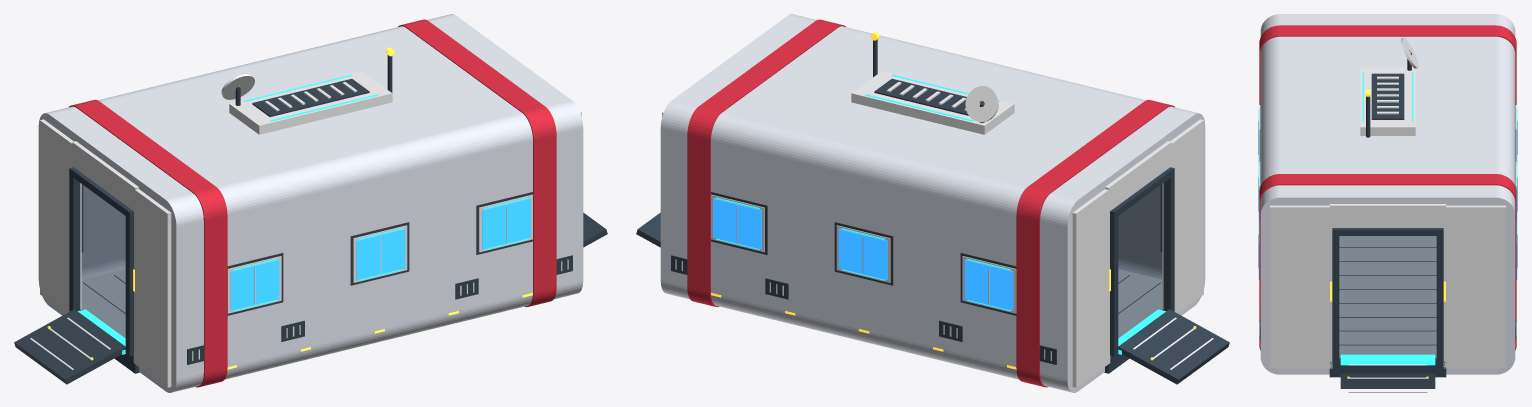
Rendered from habitat_corregido_original.glb.
The picture shows the model from 3 angles, left to right: view 1: azimuth 30°, elevation 25°; view 2: azimuth 150°, elevation 25°; view 3: azimuth 270°, elevation 25°; orthographic projection. The views are drawn at different scales.
Parts seen in each view (by area): view 1: Outer pressure hull, Red circumferential band -8.9, Red circumferential band 8.9, End -1 right bulkhead, End -1 left bulkhead, Entry ramp -1, Roof equipment spine, Interior pressure lining, Continuous walkable interior deck, Window 1 2 smart glass, Window 1 1 smart glass, Window 1 3 smart glass (+10 smaller); view 2: Outer pressure hull, Red circumferential band -8.9, Red circumferential band 8.9, End -1 left bulkhead, End -1 right bulkhead, Entry ramp -1, Interior pressure lining, Roof equipment spine, Continuous walkable interior deck, Window -1 2 smart glass, Window -1 1 smart glass, Window -1 3 smart glass (+10 smaller); view 3: Outer pressure hull, Continuous walkable interior deck, End 1 right bulkhead, End 1 left bulkhead, Red circumferential band 8.9, Red circumferential band -8.9, End 1 upper bulkhead, Roof equipment spine, Entry ramp 1, Roof spine dark inset, End 1 lower bulkhead, Threshold 1 (+4 smaller).
Part boxes in pixels (box(x1,y1,x2,y2)): Outer pressure hull: box(38, 14, 583, 392); Red circumferential band -8.9: box(69, 99, 227, 387); Red circumferential band 8.9: box(398, 19, 556, 307); End -1 right bulkhead: box(133, 189, 171, 387); End -1 left bulkhead: box(40, 119, 81, 313); Entry ramp -1: box(14, 309, 125, 384); Roof equipment spine: box(229, 71, 392, 134); Interior pressure lining: box(81, 185, 125, 279); Continuous walkable interior deck: box(81, 269, 125, 338); Window 1 2 smart glass: box(356, 229, 405, 279); Window 1 1 smart glass: box(230, 259, 279, 310); Window 1 3 smart glass: box(482, 198, 530, 249); Outer pressure hull: box(660, 14, 1205, 392); Red circumferential band -8.9: box(1016, 99, 1174, 387); Red circumferential band 8.9: box(687, 19, 845, 307); End -1 left bulkhead: box(1072, 189, 1110, 387); End -1 right bulkhead: box(1162, 119, 1203, 313); Entry ramp -1: box(1118, 309, 1229, 384); Interior pressure lining: box(1118, 185, 1162, 279); Roof equipment spine: box(851, 71, 1014, 134); Continuous walkable interior deck: box(1118, 269, 1162, 338); Window -1 2 smart glass: box(838, 229, 887, 279); Window -1 1 smart glass: box(964, 259, 1013, 310); Window -1 3 smart glass: box(713, 198, 761, 249); Outer pressure hull: box(1260, 14, 1515, 374); Continuous walkable interior deck: box(1339, 236, 1436, 357); End 1 right bulkhead: box(1270, 205, 1332, 368); End 1 left bulkhead: box(1443, 205, 1505, 368); Red circumferential band 8.9: box(1259, 174, 1516, 350); Red circumferential band -8.9: box(1259, 25, 1516, 104); End 1 upper bulkhead: box(1329, 204, 1446, 230); Roof equipment spine: box(1360, 67, 1415, 135); Entry ramp 1: box(1340, 373, 1435, 388); Roof spine dark inset: box(1371, 73, 1404, 119); End 1 lower bulkhead: box(1329, 358, 1446, 377); Threshold 1: box(1340, 354, 1435, 365).
Bounding box in the file's own units: 29.34 × 12.56 × 13.16.
